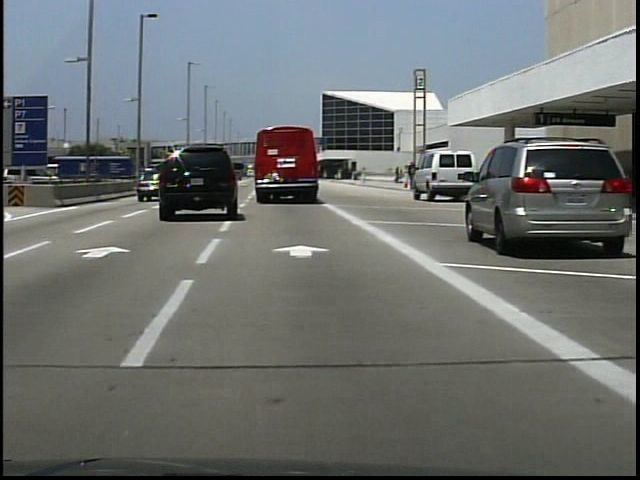person: (407, 162, 418, 195)
